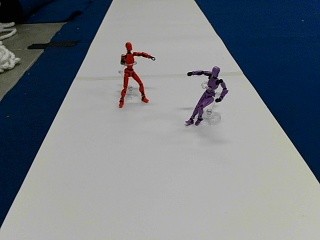pedestrian: (185, 66, 227, 126), (118, 42, 154, 106)
